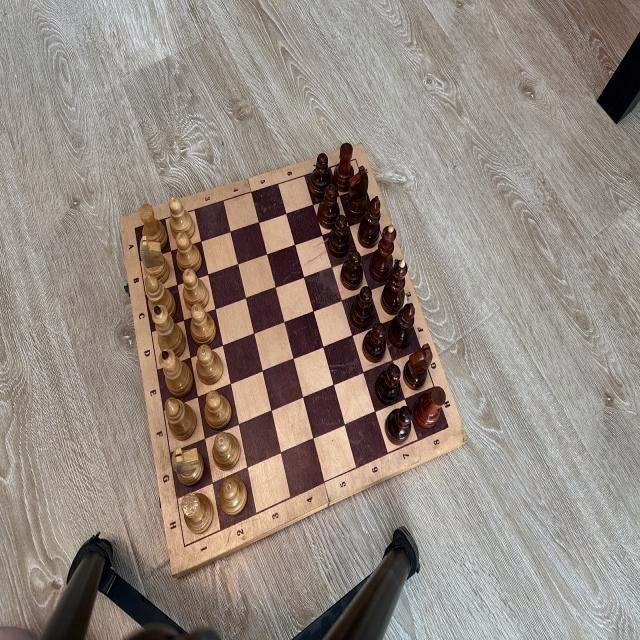chess-table-corners: (444, 420, 452, 433), (180, 541, 189, 552), (132, 225, 138, 233), (353, 156, 359, 163)
